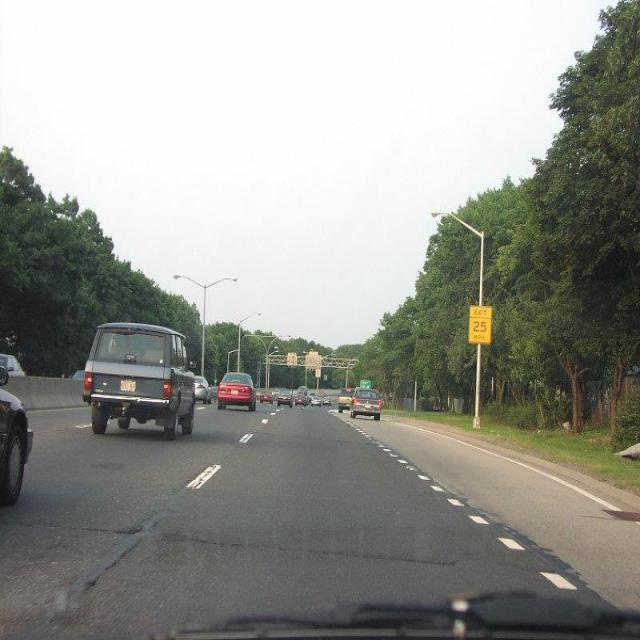Electric pole: (175, 274, 237, 377), (432, 211, 485, 306), (474, 342, 481, 428)
